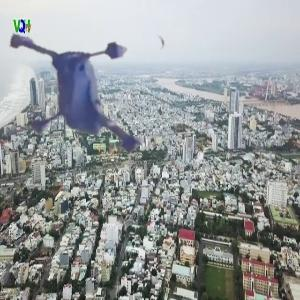drone: (10, 9, 195, 194)
